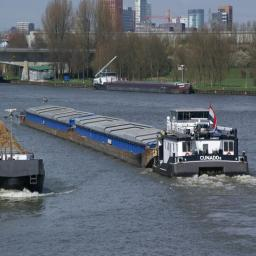tugboat: (152, 106, 253, 182)
